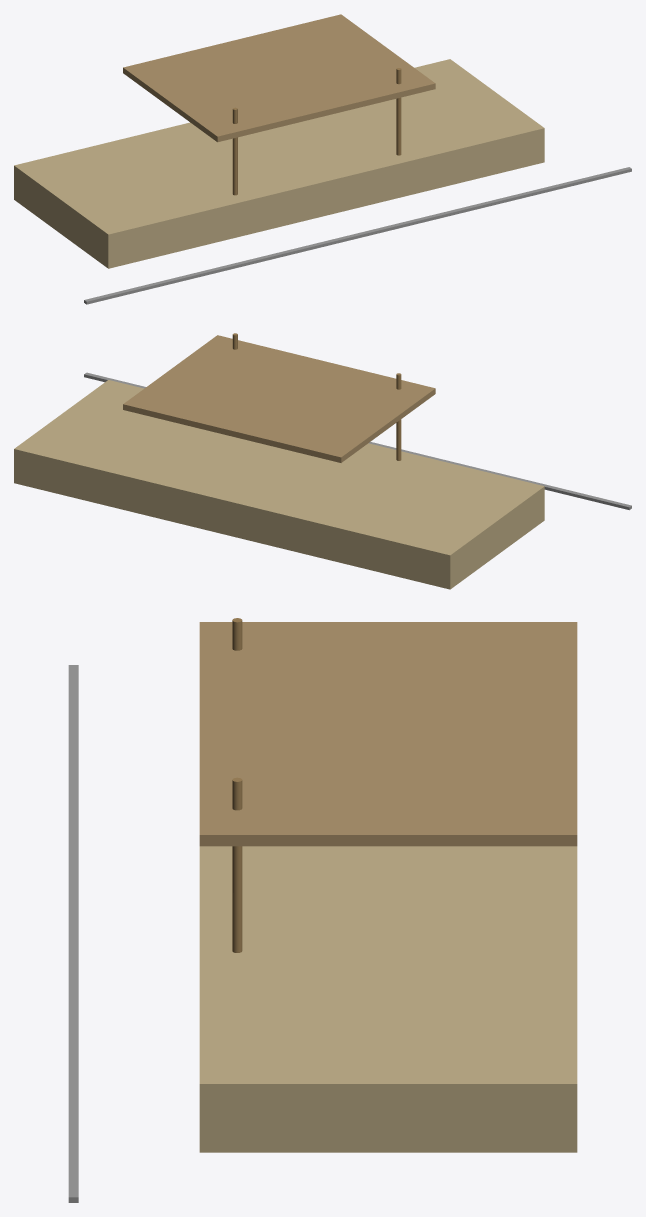
The model's file is env-ww-station.glb.
3 renders of one model, top to bottom at view 1: azimuth 30°, elevation 25°; view 2: azimuth 150°, elevation 25°; view 3: azimuth 270°, elevation 25°, orthographic. The views are drawn at different scales.
Size of the model in its own units: 10 by 2.1 by 4.04.
